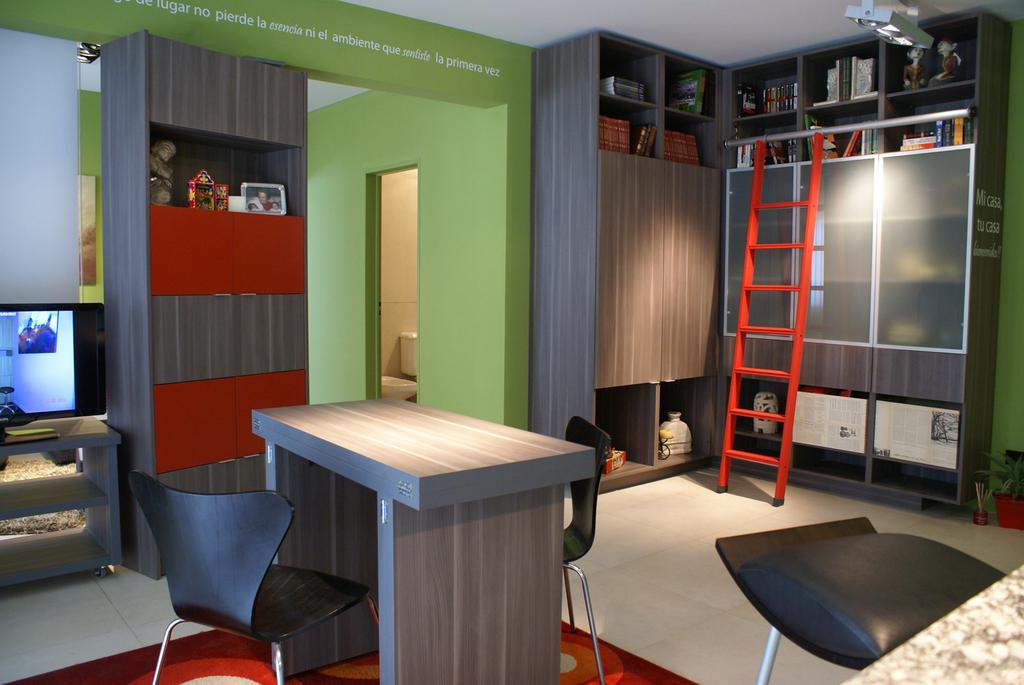Chair: (127, 469, 379, 684), (561, 414, 612, 683)
Computer-monitor: (0, 299, 108, 432)
